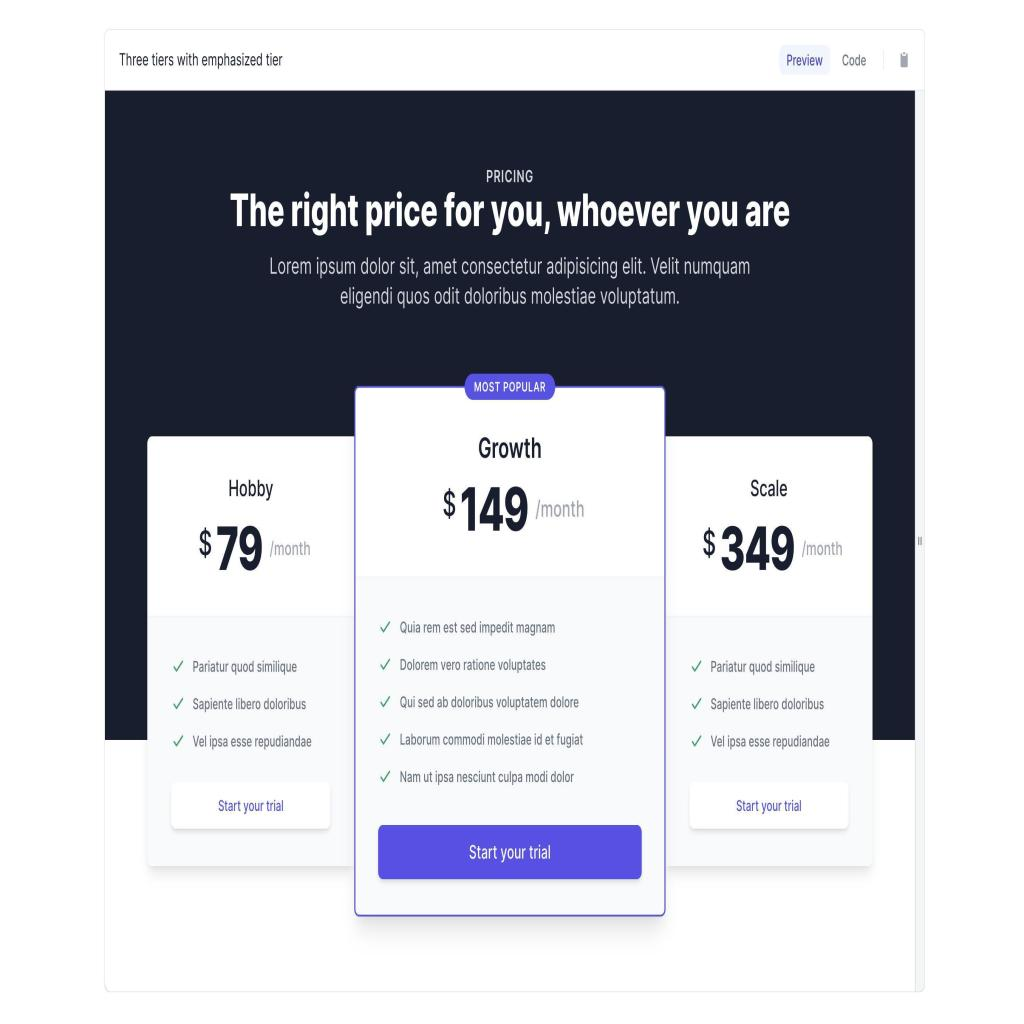button: (378, 826, 643, 880), (688, 782, 849, 832), (171, 782, 331, 828), (780, 47, 828, 73)
icon: (898, 48, 912, 73)
